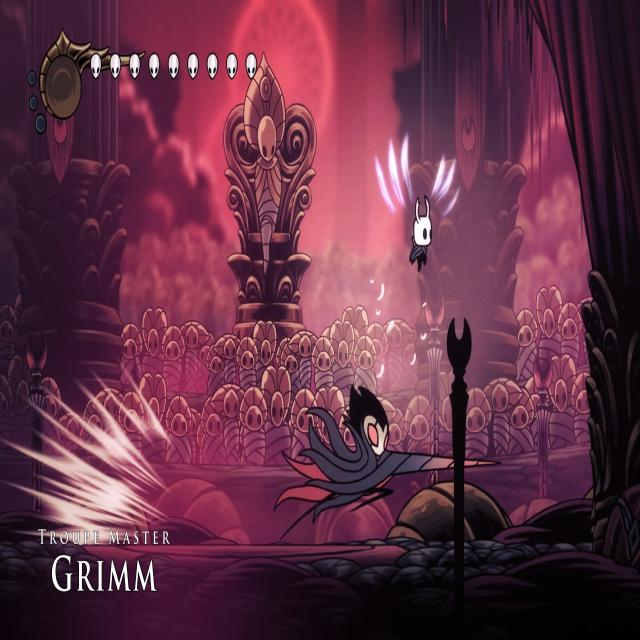Dive Dash: (272, 377, 505, 544)
Player: (407, 187, 437, 276)
